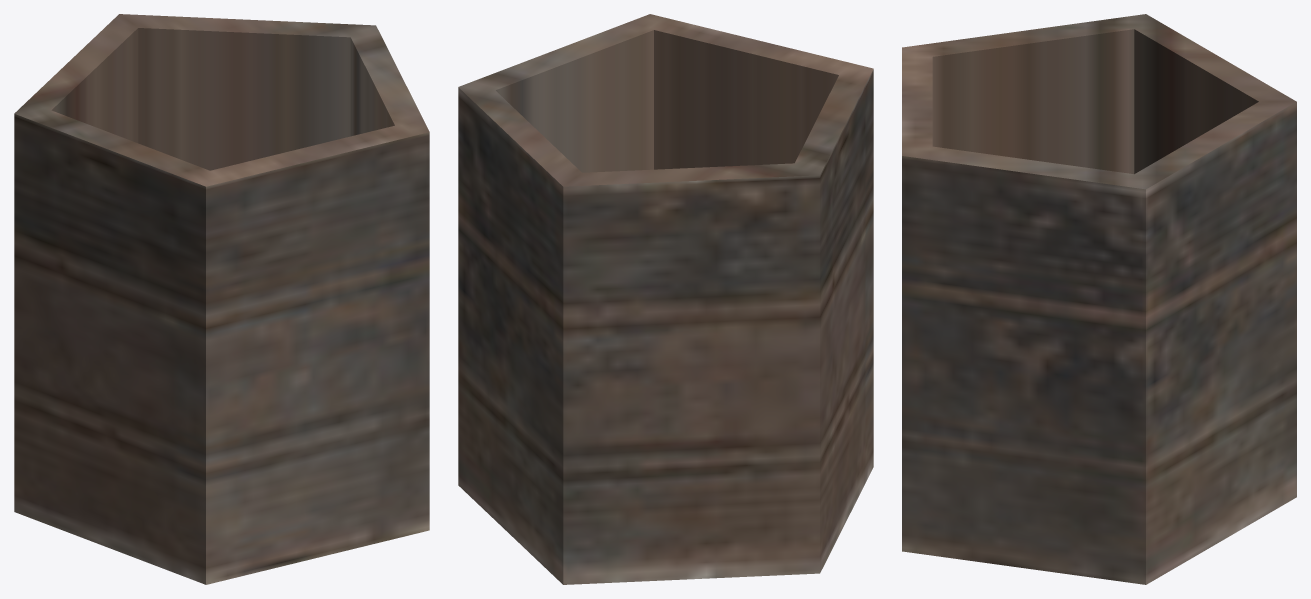
The model's file is barrel.glb.
3 renders of one model, left to right at view 1: azimuth 30°, elevation 25°; view 2: azimuth 150°, elevation 25°; view 3: azimuth 270°, elevation 25°, orthographic.
Parts seen in each view (by area): view 1: Cylinder; view 2: Cylinder; view 3: Cylinder.
Boxes of the visible parts, bbox=[...] form: Cylinder: bbox=[14, 14, 429, 584]; Cylinder: bbox=[458, 14, 873, 584]; Cylinder: bbox=[902, 14, 1296, 584].
Bounding box in the file's own units: 1.9 × 2 × 1.81.
1 material, 1 textured.
